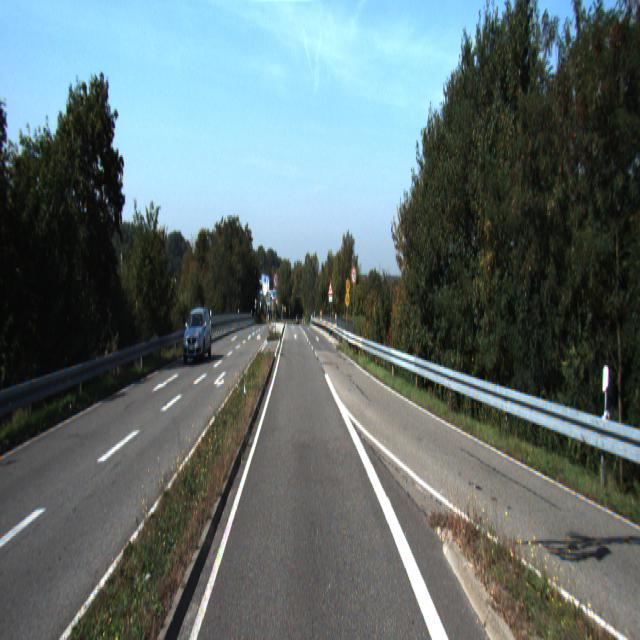Car: (179, 305, 214, 362)
